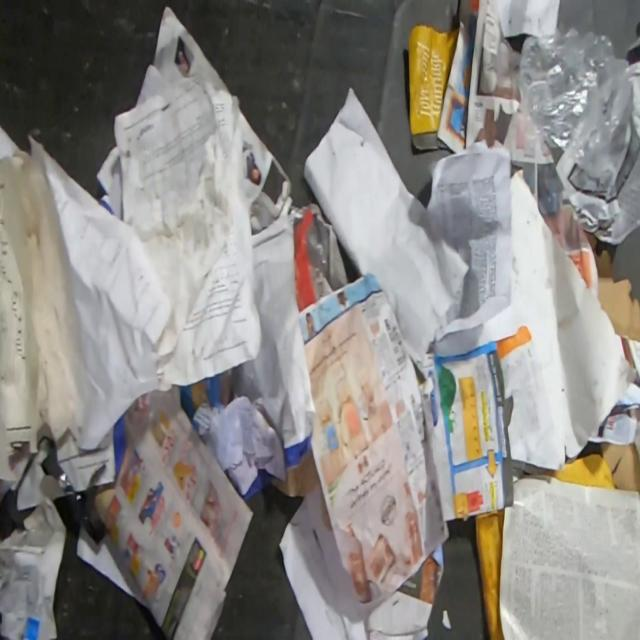cardboard: (583, 230, 640, 343), (598, 441, 640, 492)
soft_plastic: (508, 23, 636, 185)
